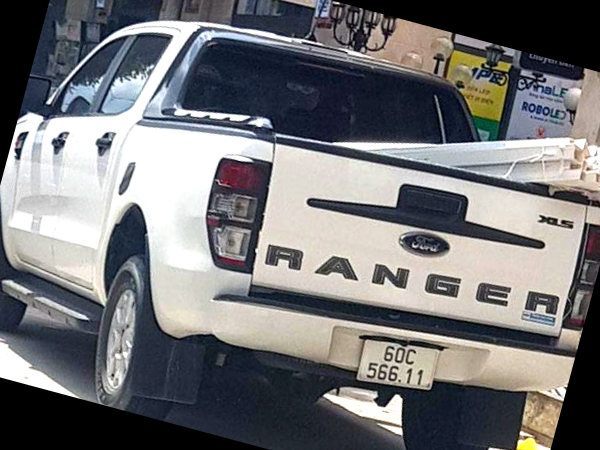lisence: (356, 336, 439, 392)
